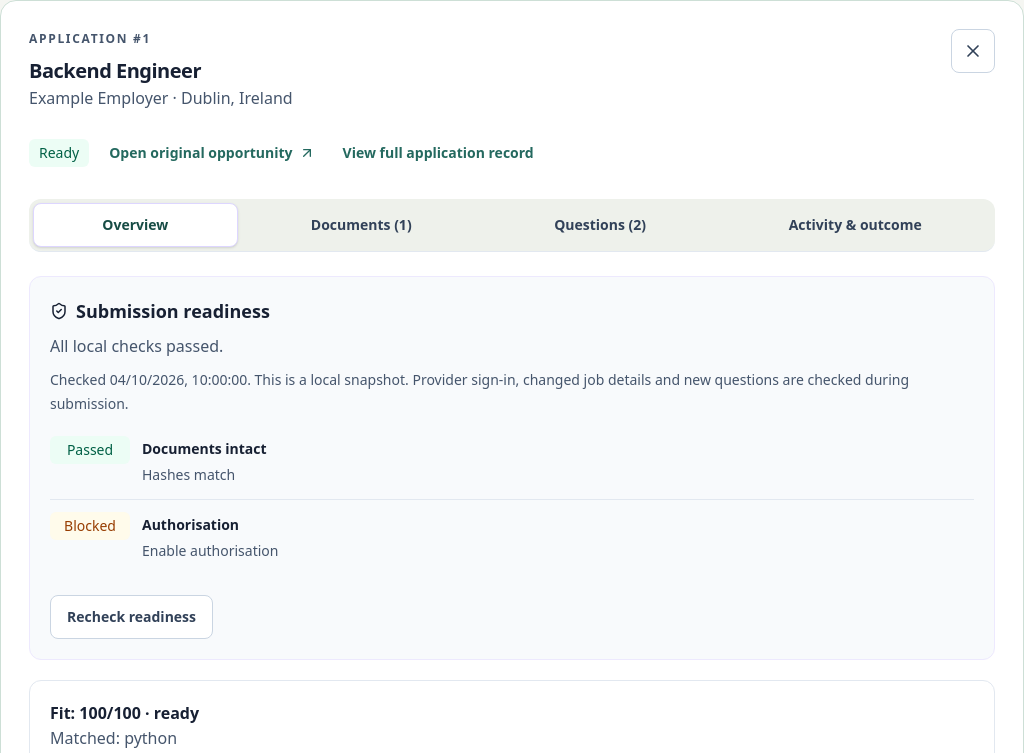
Test case: includes newly observed routine questions without duplicating known questions
Click the tab "Questions (2)" at (600,224), box [485,202,715,246]
(page scrolled)
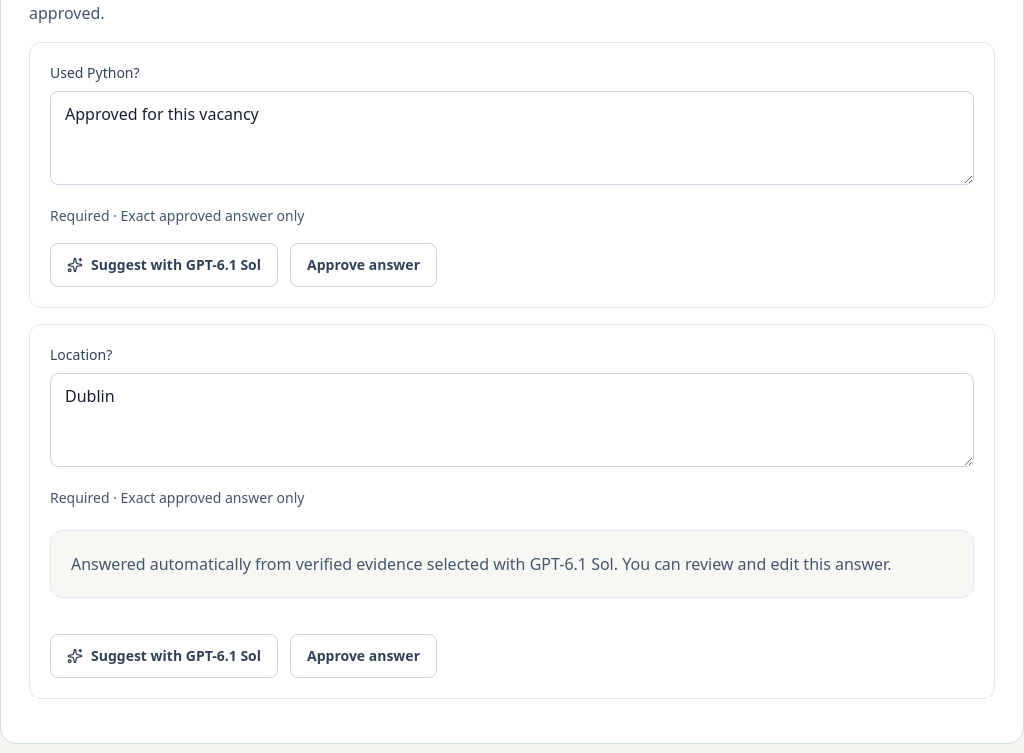
Result: the number of text boxes labelled "Used Python?" is 1 at [50,90,974,184]
Result: the text box labelled "Used Python?" holds "Approved for this vacancy" at [50,90,974,184]
Result: the text box labelled "Location?" holds "Dublin" at [50,373,974,467]
